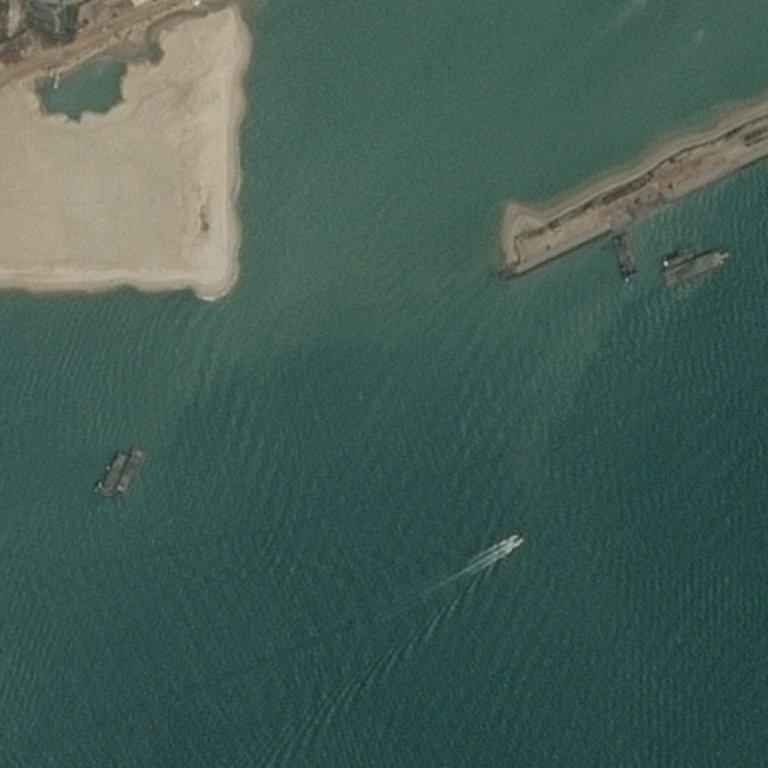ship: (662, 248, 731, 290), (36, 435, 69, 487), (516, 530, 522, 546), (726, 253, 729, 257), (664, 272, 667, 275), (121, 488, 123, 492), (667, 51, 669, 54), (524, 533, 525, 534), (516, 544, 517, 545), (513, 539, 514, 539), (144, 453, 144, 455), (134, 449, 134, 453)
